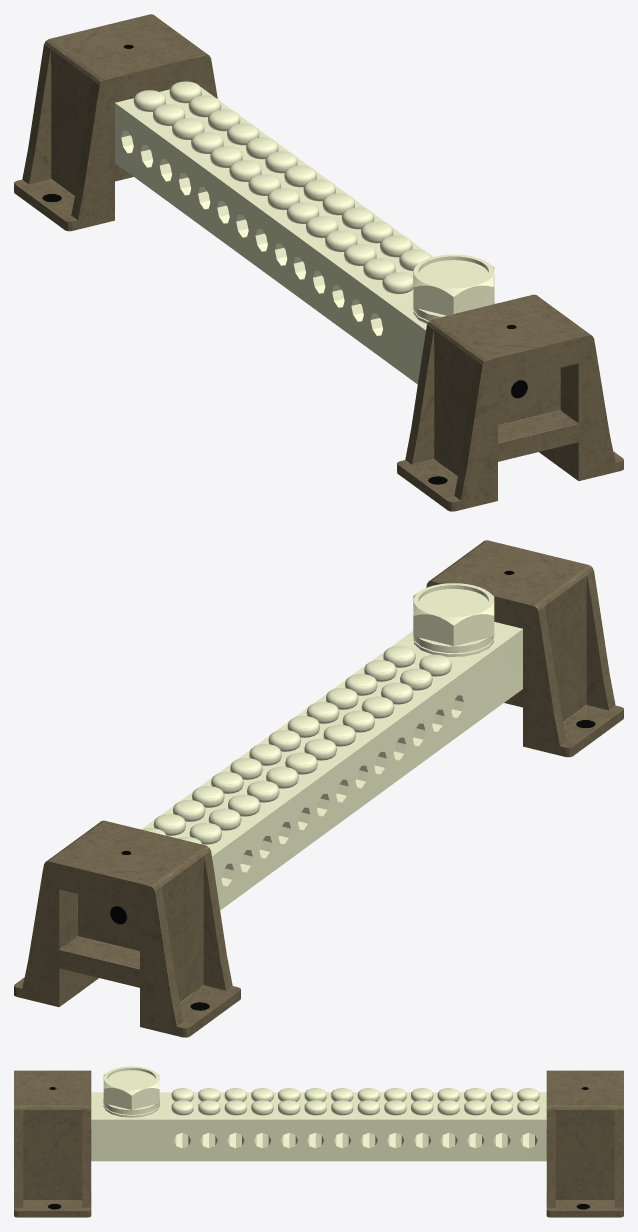
Rendered from Grounding Terminal.fbx.
3 renders of one model, top to bottom at view 1: azimuth 30°, elevation 25°; view 2: azimuth 150°, elevation 25°; view 3: azimuth 270°, elevation 25°, orthographic. The views are drawn at different scales.
Visible parts, largest first — view 1: Cube, Cube.001, Cylinder, Bolt; view 2: Cube, Cube.001, Cylinder, Bolt, Cylinder.002; view 3: Cube.001, Cube, Cylinder, Bolt, Cylinder.002.
Part boxes in pixels (x1,y1,x2,y2): Cube: (14, 14, 623, 511); Cube.001: (115, 87, 496, 384); Cylinder: (133, 81, 430, 294); Bolt: (413, 254, 494, 315); Cube: (14, 540, 623, 1037); Cube.001: (141, 622, 522, 910); Cylinder: (142, 646, 451, 844); Bolt: (413, 583, 494, 645); Cylinder.002: (413, 636, 493, 652); Cube.001: (91, 1092, 546, 1161); Cube: (14, 1070, 623, 1217); Cylinder: (171, 1088, 539, 1115); Bolt: (103, 1066, 159, 1109); Cylinder.002: (103, 1098, 159, 1114).
Size of the model in its own units: 12.86 by 11.06 by 55.75.
Materials: 1 (1 with a texture image).
